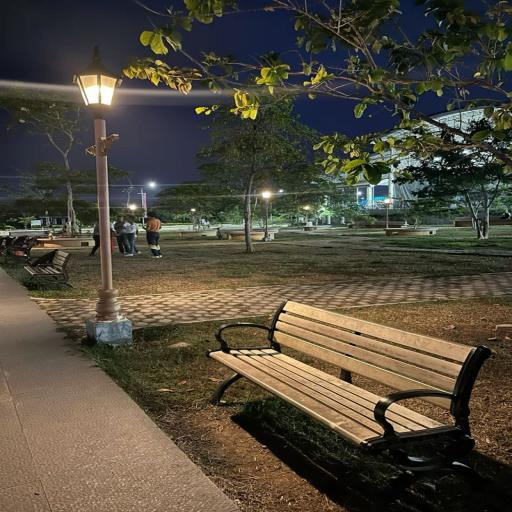elevator: (65, 42, 143, 349)
glass_wall: (0, 267, 252, 512), (22, 265, 512, 343)
trash_bin: (195, 294, 500, 502), (22, 248, 81, 294)
